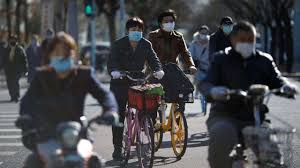Mask: (50, 50, 76, 70), (234, 40, 255, 56), (128, 30, 143, 41), (161, 21, 173, 32), (222, 23, 233, 33)
